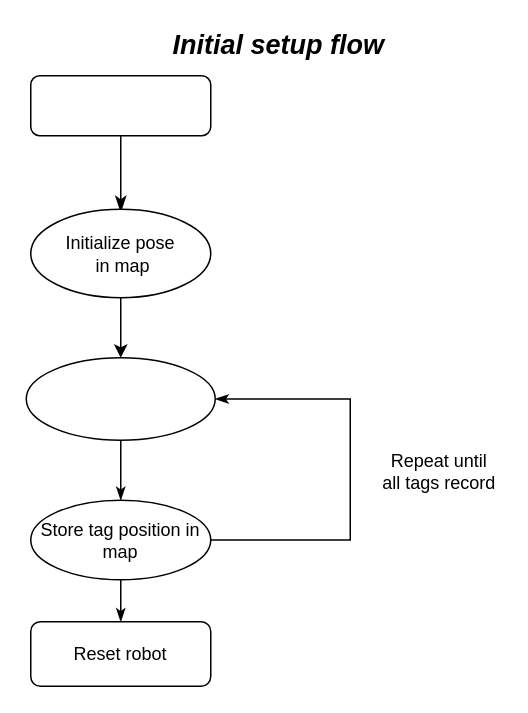
Some shapes in this 528 by 713 pixel diagram are drawn without their labels. The shapes that lost their labels are listed below. From the top down, each one's box as (x1, y1, x2, y2) in pixels, then its label:
(29, 74, 211, 136): Turn on robot
(25, 356, 215, 440): Move the robot to tag position
